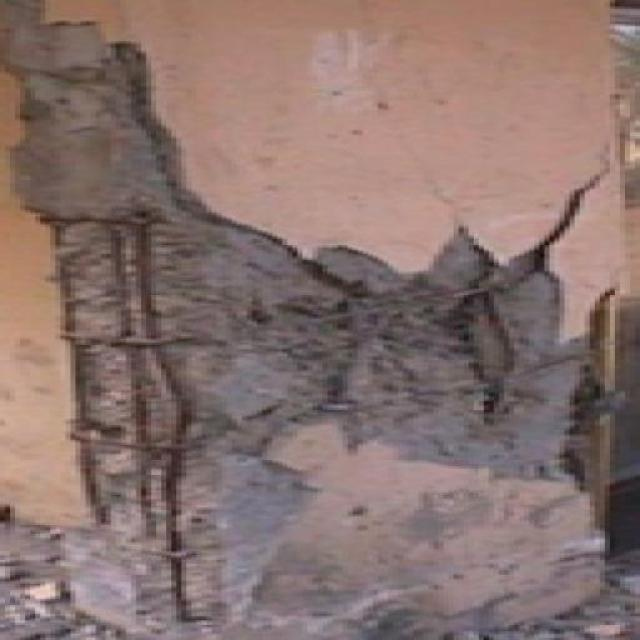D0w0: (6, 0, 599, 631)
